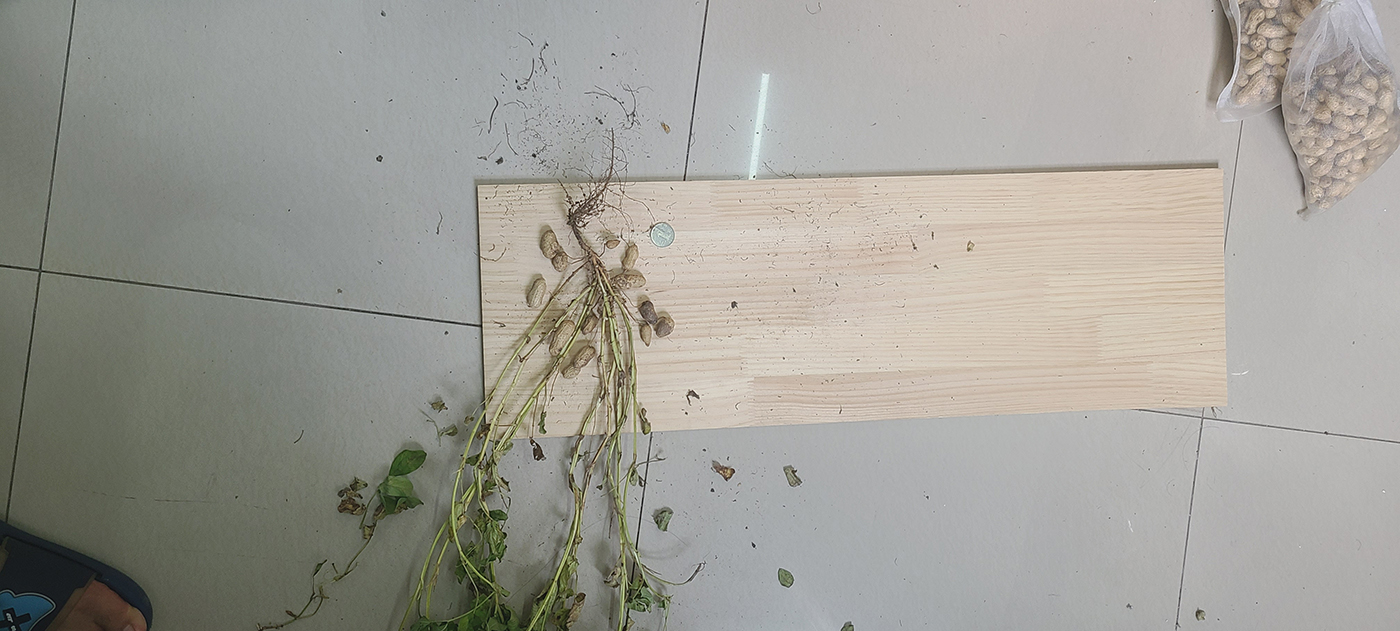h: (562, 345, 597, 378), (549, 322, 575, 357), (609, 273, 648, 292), (527, 277, 545, 307), (540, 230, 559, 257), (622, 244, 639, 270), (581, 314, 601, 335), (639, 323, 653, 345), (553, 252, 567, 271)
l: (639, 300, 658, 325), (655, 317, 674, 338)
